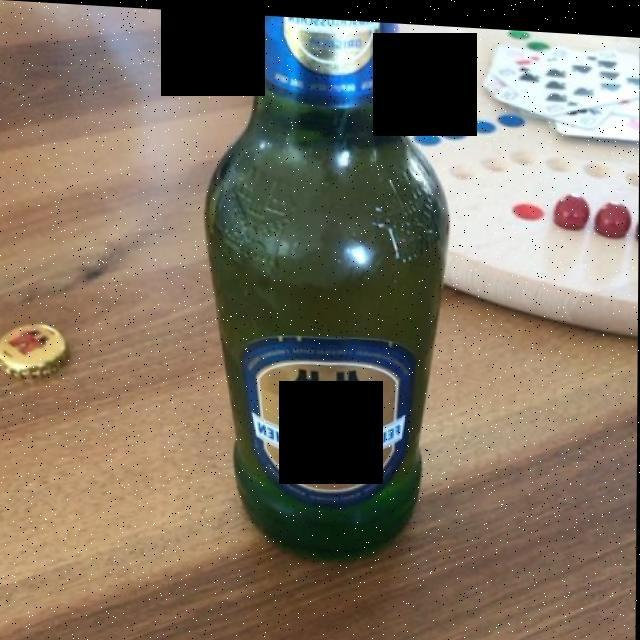beer: (217, 16, 449, 557)
